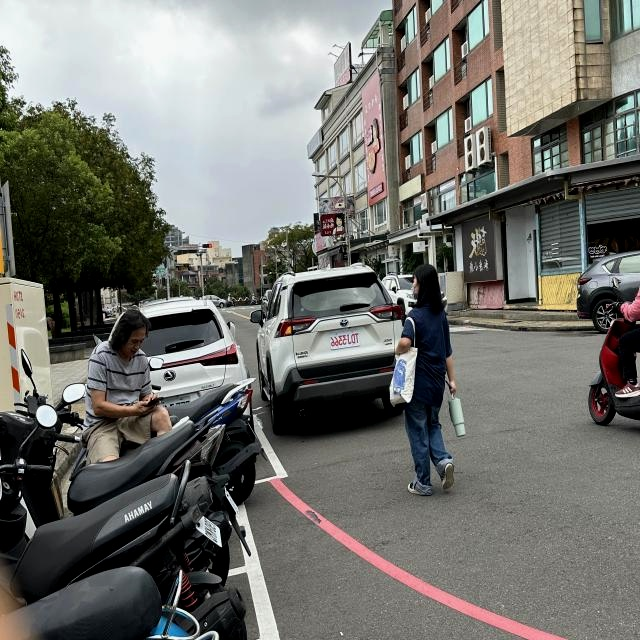Sin_Casco_Mascarrilla: (112, 311, 149, 358), (410, 264, 438, 304)
Sin_Chaleco: (405, 308, 446, 392)
